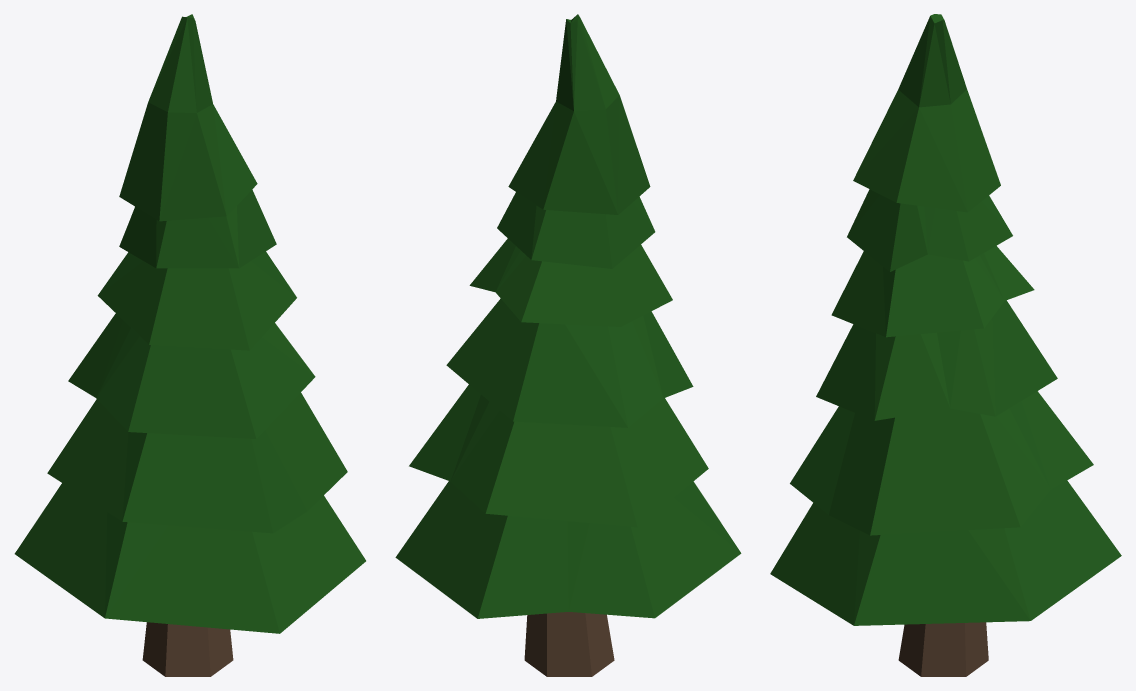
Rendered from pine2.glb.
3 renders of one model, left to right at view 1: azimuth 30°, elevation 25°; view 2: azimuth 150°, elevation 25°; view 3: azimuth 270°, elevation 25°, orthographic.
Visible parts, largest first — view 1: Leaves.004, Trunk.004; view 2: Leaves.004, Trunk.004; view 3: Leaves.004, Trunk.004.
Part boxes in pixels (x1,y1,x2,y2): Leaves.004: (14, 14, 365, 633); Trunk.004: (142, 622, 233, 676); Leaves.004: (395, 14, 741, 618); Trunk.004: (524, 612, 614, 676); Leaves.004: (770, 14, 1121, 625); Trunk.004: (898, 622, 988, 676).
Bounding box in the file's own units: 2.37 × 5.56 × 2.76.
